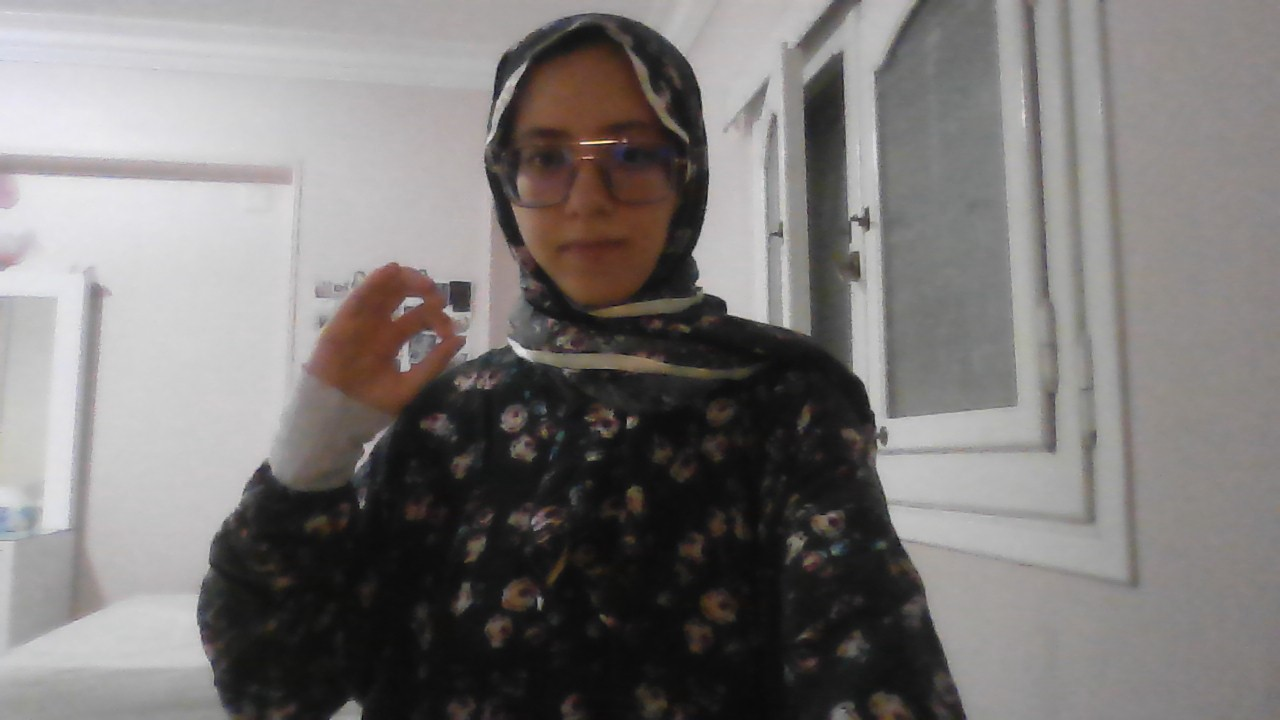okay: (305, 237, 463, 441)
